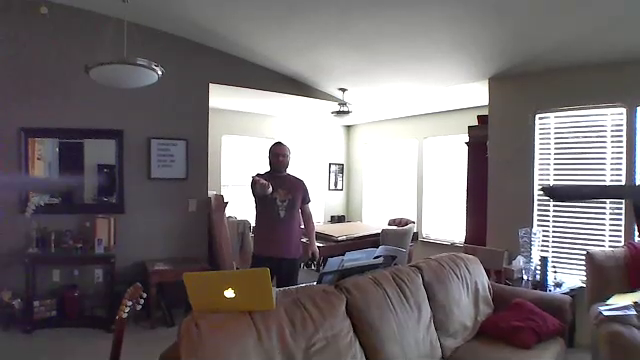land: (250, 172, 276, 193)
